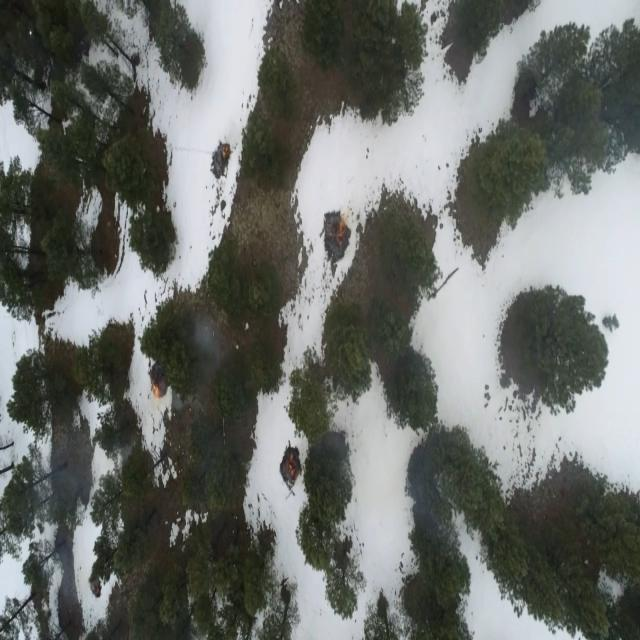Fire: (323, 216, 351, 268), (152, 357, 170, 410)
